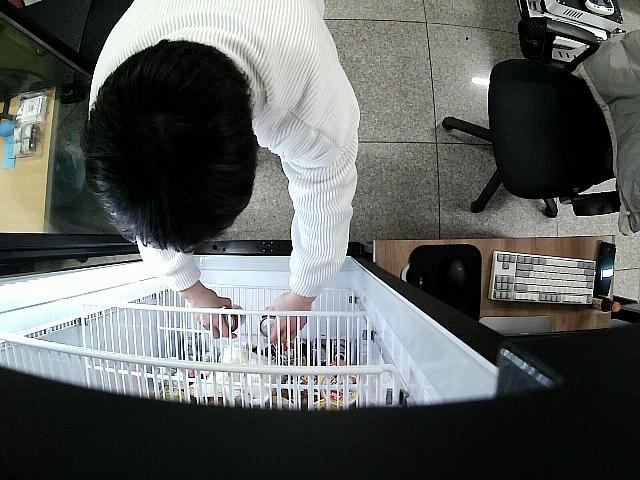00_hand: (191, 290, 238, 341), (268, 294, 306, 344)
11_cocaColaZero: (219, 305, 246, 331), (259, 315, 274, 339)
